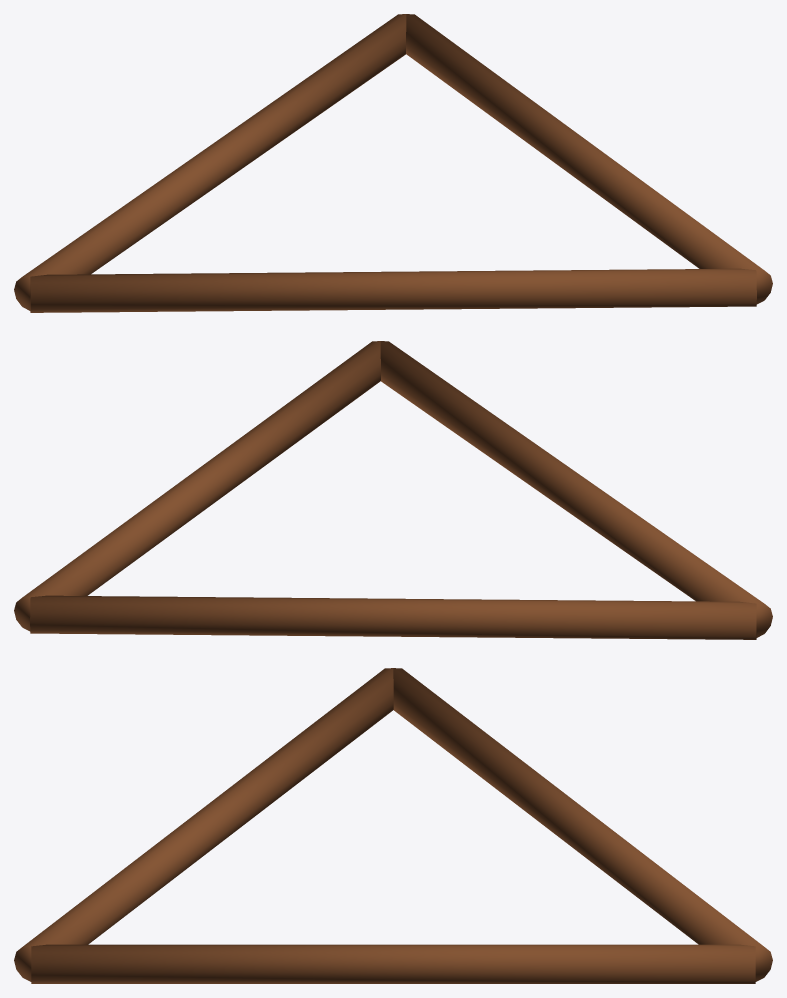
The model's file is triangle_rack.glb.
The picture shows the model from 3 angles, top to bottom: view 1: azimuth 30°, elevation 25°; view 2: azimuth 150°, elevation 25°; view 3: azimuth 270°, elevation 25°; orthographic projection. The views are drawn at different scales.
Visible parts, largest first — view 1: Rack | wooden side.002, Rack | wooden side, Rack | wooden side.001; view 2: Rack | wooden side, Rack | wooden side.002, Rack | wooden side.001; view 3: Rack | wooden side.001, Rack | wooden side, Rack | wooden side.002.
Boxes of the visible parts, left/top/right/bottom form: Rack | wooden side.002: left=30, top=268, right=756, bottom=312; Rack | wooden side: left=14, top=14, right=406, bottom=310; Rack | wooden side.001: left=406, top=14, right=772, bottom=304; Rack | wooden side: left=30, top=595, right=756, bottom=639; Rack | wooden side.002: left=380, top=341, right=772, bottom=637; Rack | wooden side.001: left=14, top=341, right=380, bottom=631; Rack | wooden side.001: left=31, top=944, right=755, bottom=983; Rack | wooden side: left=393, top=668, right=772, bottom=981; Rack | wooden side.002: left=14, top=668, right=393, bottom=981.
Bounding box in the file's own units: 0.3133 × 0.018 × 0.3458.
